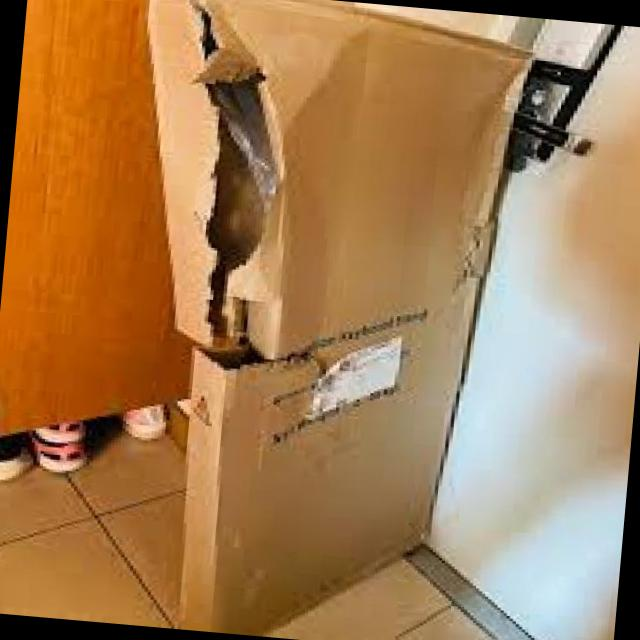box: (156, 1, 527, 639)
tear: (189, 10, 275, 373)
